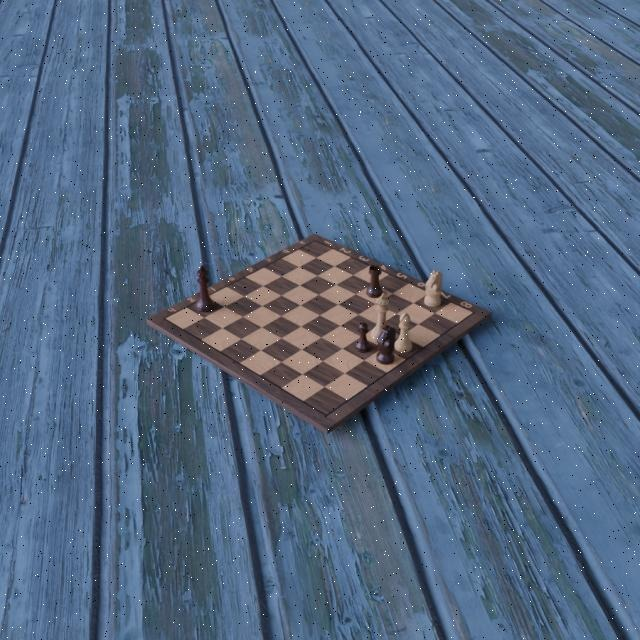black-king: (196, 266, 216, 314)
black-knight: (376, 322, 396, 365)
black-pawn: (354, 322, 372, 354)
black-rook: (365, 264, 382, 298)
white-bishop: (392, 311, 413, 353)
white-king: (370, 293, 392, 343)
white-knight: (424, 268, 444, 307)
